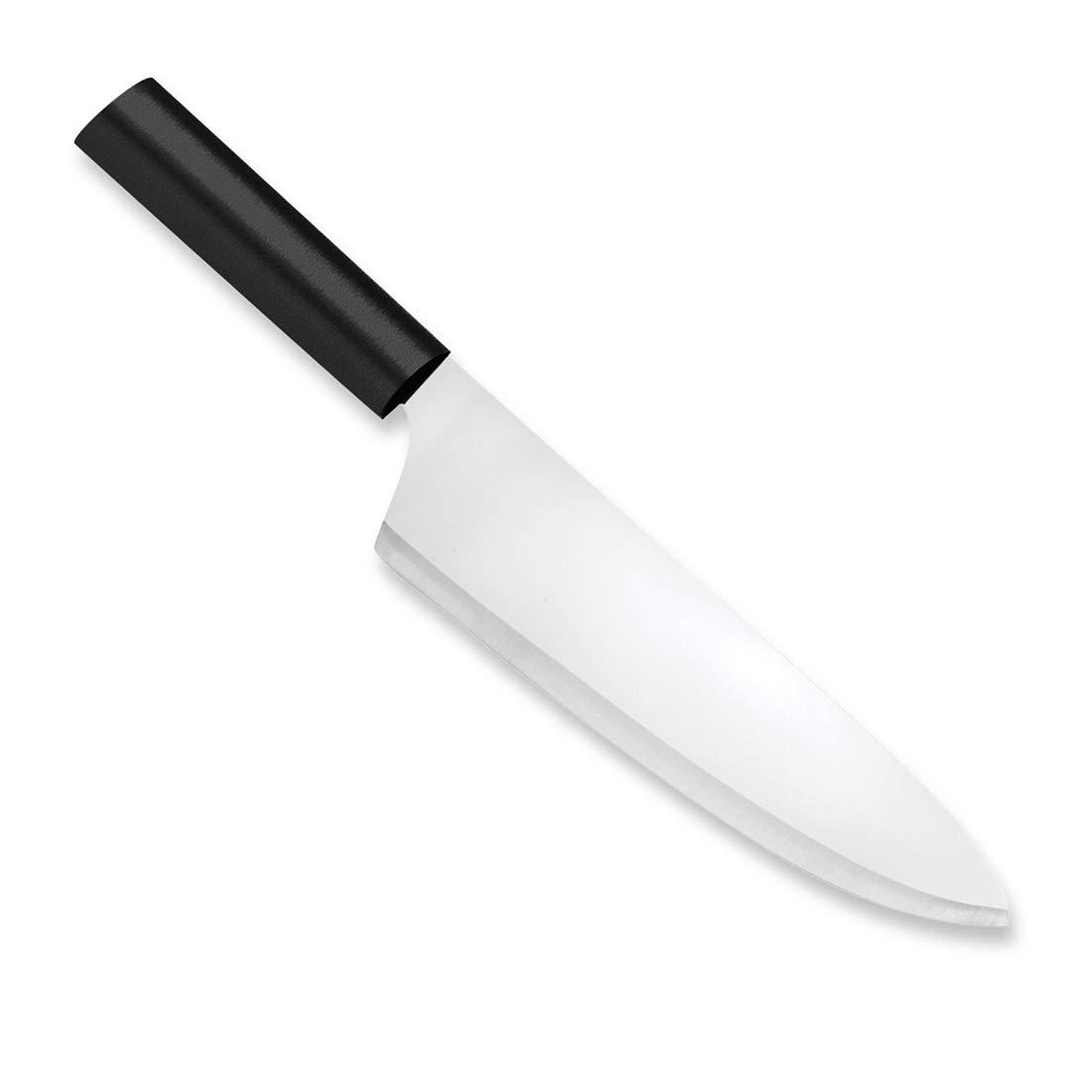Knife: (68, 73, 1033, 939)
